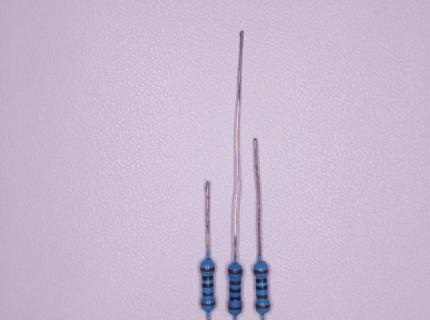Black band: (202, 275, 213, 281), (202, 283, 214, 288), (229, 288, 241, 293), (256, 285, 268, 290), (230, 296, 241, 301), (256, 278, 267, 283)
Brown band: (228, 269, 243, 275), (253, 269, 269, 274), (200, 267, 215, 272), (201, 301, 216, 306), (255, 304, 270, 309), (228, 305, 242, 310), (202, 292, 214, 297), (230, 280, 241, 285), (257, 294, 268, 299)
